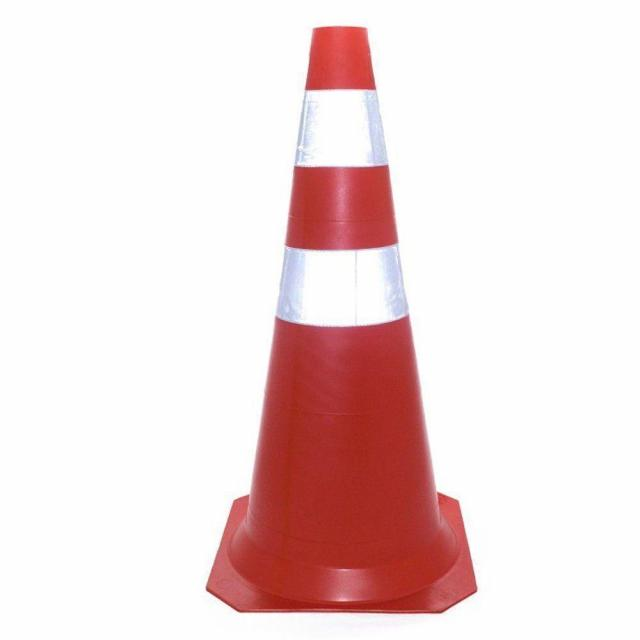cone: (226, 17, 514, 616)
